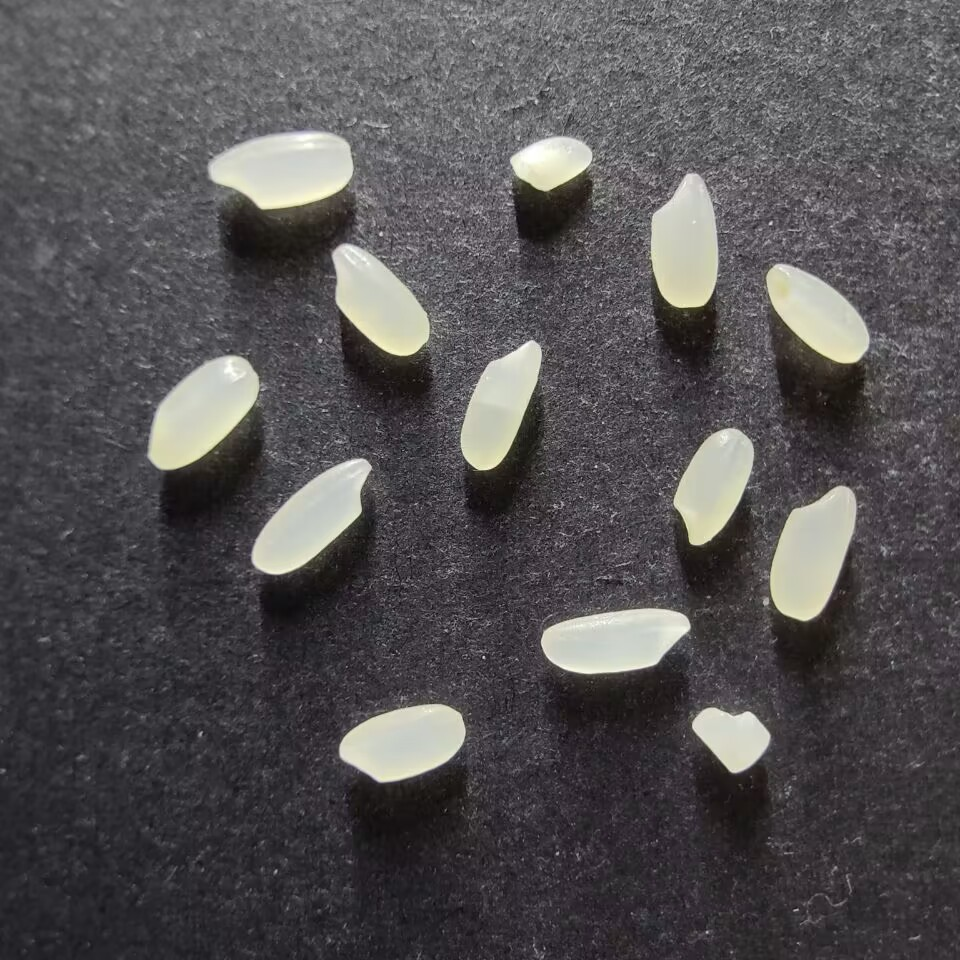broken: (689, 706, 772, 775), (508, 135, 594, 193)
rice: (249, 457, 374, 576), (146, 355, 261, 471), (768, 484, 859, 622), (206, 129, 355, 212), (329, 241, 431, 358), (458, 335, 544, 471), (765, 262, 871, 365), (336, 702, 466, 784), (539, 608, 693, 675), (671, 426, 755, 547), (648, 171, 720, 310)
